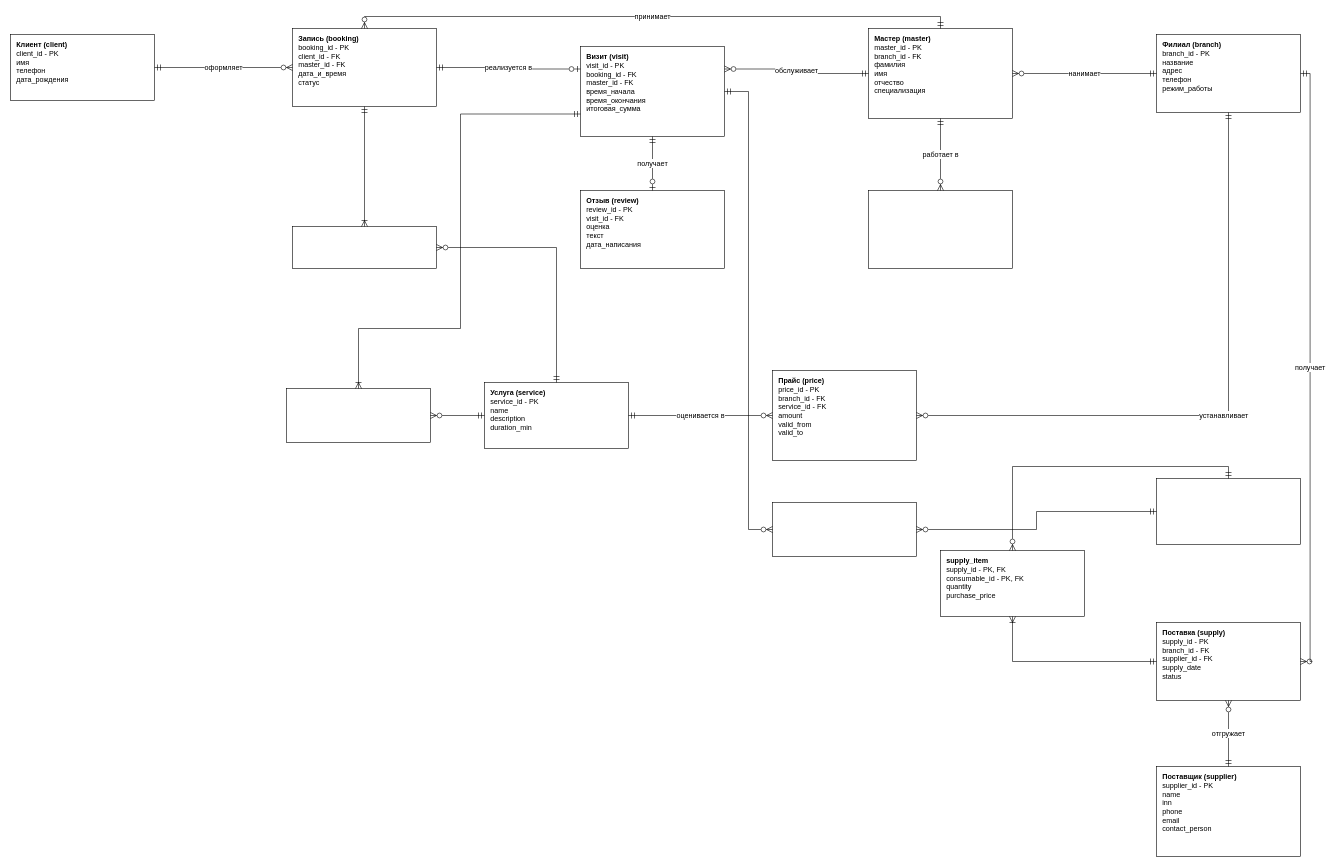
The diagram is 1336 pixels wide and 867 high, and some of its shapes have lost their labels. The shapes that lost their labels are listed below. From the top down, each one's centre as x and y in pixels, then its label:
At [364,247]: "booking_service booking_id - PK, FK service_id - PK, FK".
At [940,229]: "Смена (shift) shift_id - PK master_id - FK дата время_начала время_окончания".
At [358,415]: "visit_service visit_id - PK, FK service_id - PK, FK price_at_moment".
At [844,529]: "visit_consumable visit_id - PK, FK consumable_id - PK, FK quantity_used".
At [1228,511]: "Расходный материал (consumable) consumable_id - PK name unit min_stock".
